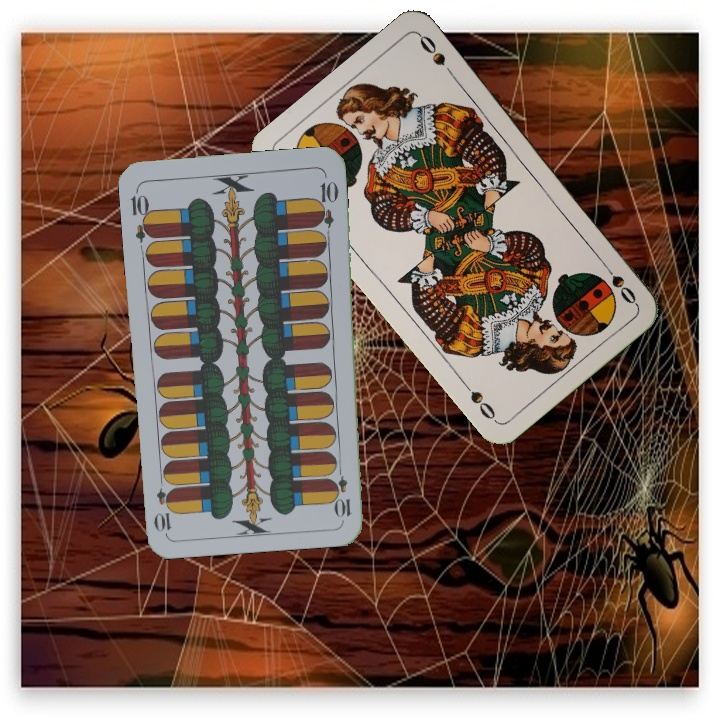E10: (127, 185, 156, 244), (332, 461, 354, 520)
SO: (597, 256, 639, 307)
